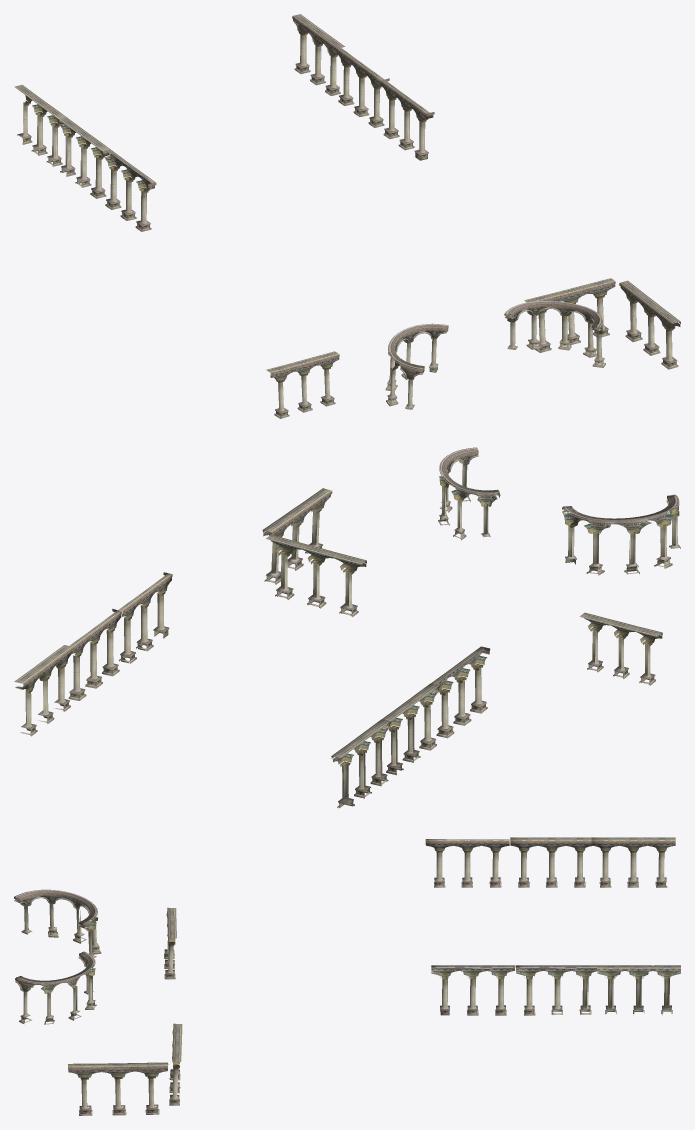
The model's file is S_Build_City011_A.FBX.
3 views of the same model, one above another, from view 1: azimuth 30°, elevation 25°; view 2: azimuth 150°, elevation 25°; view 3: azimuth 270°, elevation 25° (orthographic). The views are drawn at different scales.
Visible parts, largest first — view 1: S_Build_City012_001, S_Build_City012_002, S_Build_City011_001, S_Build_City011_009, S_Build_City011_002, S_Build_City011_005, S_Build_City011_003, S_Build_City011_004, S_Build_City011_007, S_Build_City011_008, S_Build_City011_006; view 2: S_Build_City012_002, S_Build_City011_002, S_Build_City012_001, S_Build_City011_004, S_Build_City011_006, S_Build_City011_005, S_Build_City011_001, S_Build_City011_009, S_Build_City011_008, S_Build_City011_003, S_Build_City011_007; view 3: S_Build_City011_001, S_Build_City012_002, S_Build_City011_006, S_Build_City011_005, S_Build_City012_001, S_Build_City011_004, S_Build_City011_008, S_Build_City011_007, S_Build_City011_009, S_Build_City011_002, S_Build_City011_003.
Part boxes in pixels (left/top/right/bottom): S_Build_City012_001: left=504, top=301, right=605, bottom=367; S_Build_City012_002: left=385, top=323, right=448, bottom=409; S_Build_City011_001: left=619, top=280, right=680, bottom=369; S_Build_City011_009: left=292, top=14, right=345, bottom=95; S_Build_City011_002: left=524, top=278, right=615, bottom=352; S_Build_City011_005: left=59, top=117, right=110, bottom=198; S_Build_City011_003: left=266, top=351, right=339, bottom=418; S_Build_City011_004: left=104, top=150, right=156, bottom=231; S_Build_City011_007: left=381, top=80, right=434, bottom=160; S_Build_City011_008: left=336, top=48, right=389, bottom=127; S_Build_City011_006: left=14, top=84, right=66, bottom=166; S_Build_City012_002: left=562, top=494, right=680, bottom=575; S_Build_City011_002: left=266, top=534, right=366, bottom=616; S_Build_City012_001: left=438, top=447, right=500, bottom=540; S_Build_City011_004: left=431, top=646, right=490, bottom=738; S_Build_City011_006: left=331, top=719, right=390, bottom=808; S_Build_City011_005: left=382, top=683, right=439, bottom=775; S_Build_City011_001: left=262, top=488, right=332, bottom=584; S_Build_City011_009: left=14, top=645, right=73, bottom=736; S_Build_City011_008: left=68, top=608, right=122, bottom=700; S_Build_City011_003: left=579, top=612, right=662, bottom=685; S_Build_City011_007: left=118, top=572, right=172, bottom=663; S_Build_City011_001: left=68, top=1062, right=168, bottom=1115; S_Build_City012_002: left=14, top=889, right=101, bottom=957; S_Build_City011_006: left=591, top=837, right=675, bottom=887; S_Build_City011_005: left=510, top=837, right=592, bottom=887; S_Build_City012_001: left=15, top=951, right=96, bottom=1024; S_Build_City011_004: left=425, top=839, right=509, bottom=887; S_Build_City011_008: left=515, top=965, right=597, bottom=1015; S_Build_City011_007: left=431, top=965, right=514, bottom=1015; S_Build_City011_009: left=597, top=965, right=680, bottom=1014; S_Build_City011_002: left=169, top=1023, right=182, bottom=1105; S_Build_City011_003: left=164, top=907, right=176, bottom=979.
Bounding box in the file's own units: 9029 × 15499 × 3138.
